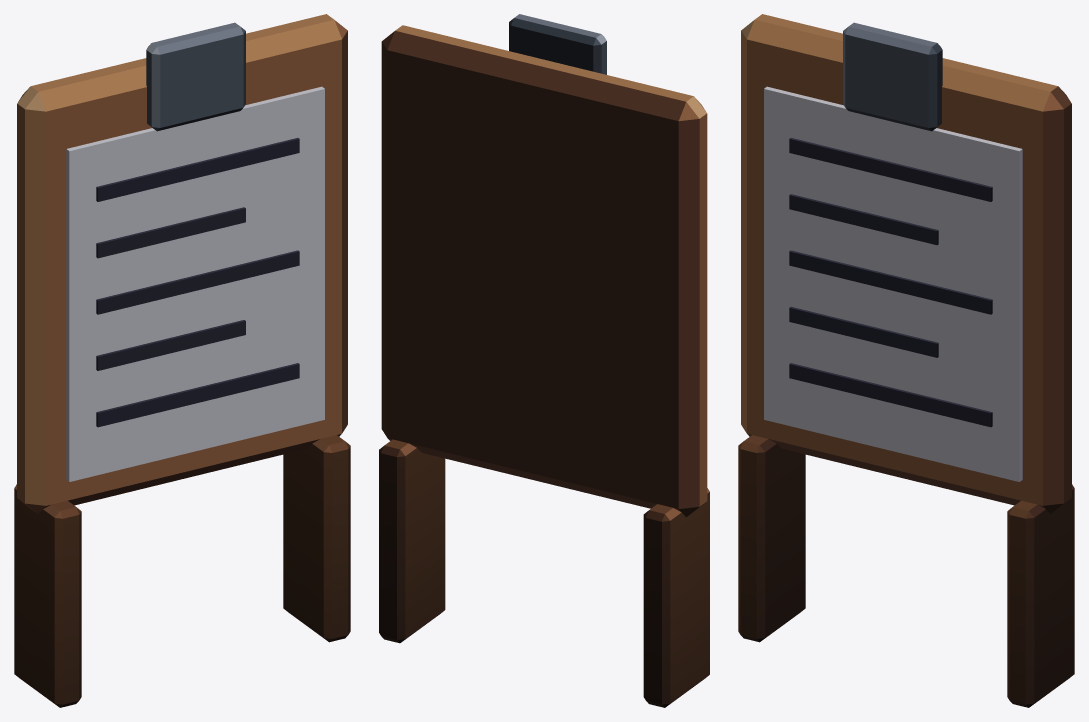
The model's file is clipboard.glb.
3 views of the same model, side by side, from view 1: azimuth 30°, elevation 25°; view 2: azimuth 150°, elevation 25°; view 3: azimuth 330°, elevation 25° (orthographic).
Parts seen in each view (by area): view 1: clipboard; view 2: clipboard; view 3: clipboard.
Boxes of the visible parts, bbox=[...] form: clipboard: bbox=[14, 14, 350, 707]; clipboard: bbox=[379, 14, 709, 707]; clipboard: bbox=[738, 14, 1074, 707].
Size of the model in its own units: 0.48 by 0.9 by 0.12.
